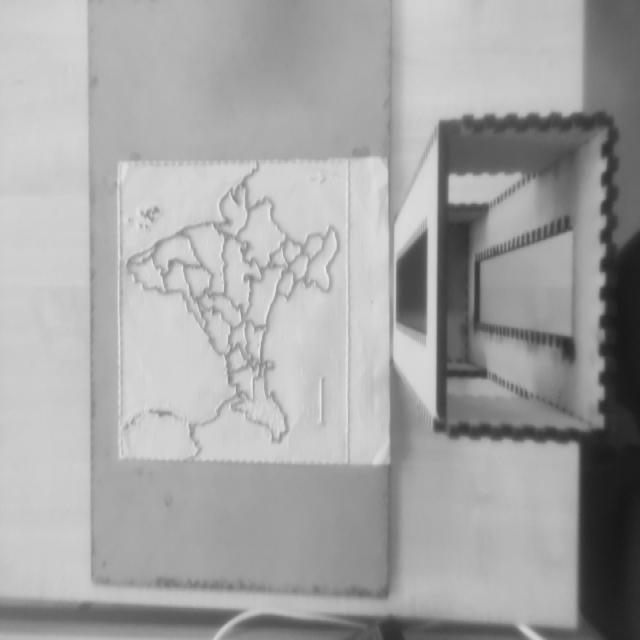map: (118, 159, 349, 464)
